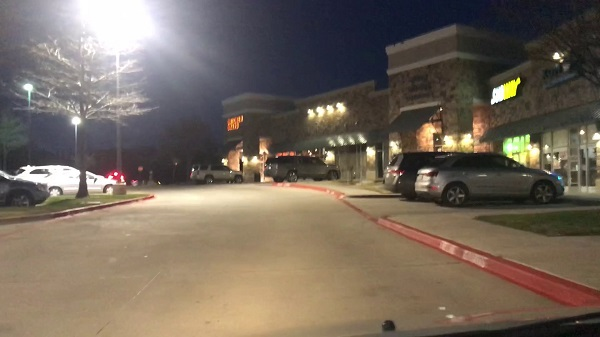car: (416, 152, 565, 206), (21, 167, 113, 194), (382, 154, 438, 197), (1, 171, 47, 208), (188, 163, 238, 182), (106, 169, 125, 182)
truck: (265, 157, 339, 180)
